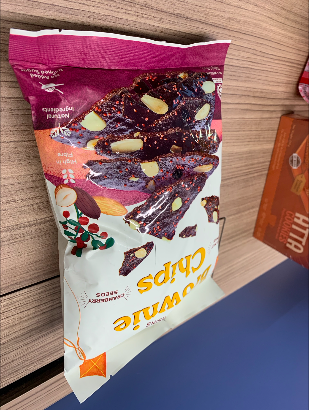Crackers_100-199g: (58, 68, 220, 312)
